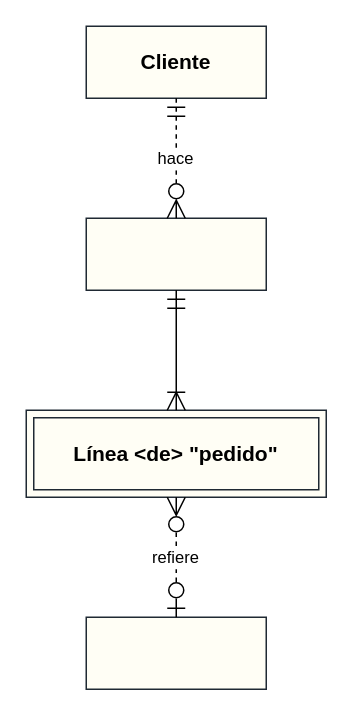
Image size: 353x716. Some labels were removed from this diagram. The centre of each missing label's shape, as x and y in pixels:
"Pedido" belongs at (x=175, y=253).
"Producto" belongs at (x=175, y=652).
